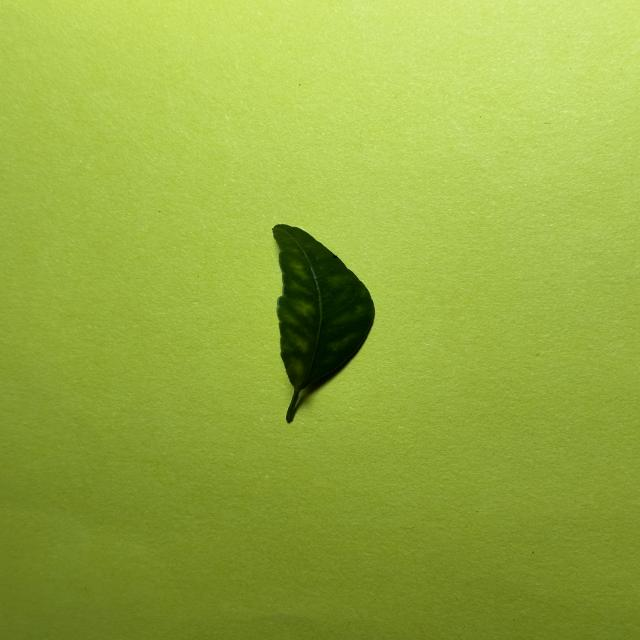greening: (273, 224, 374, 422)
